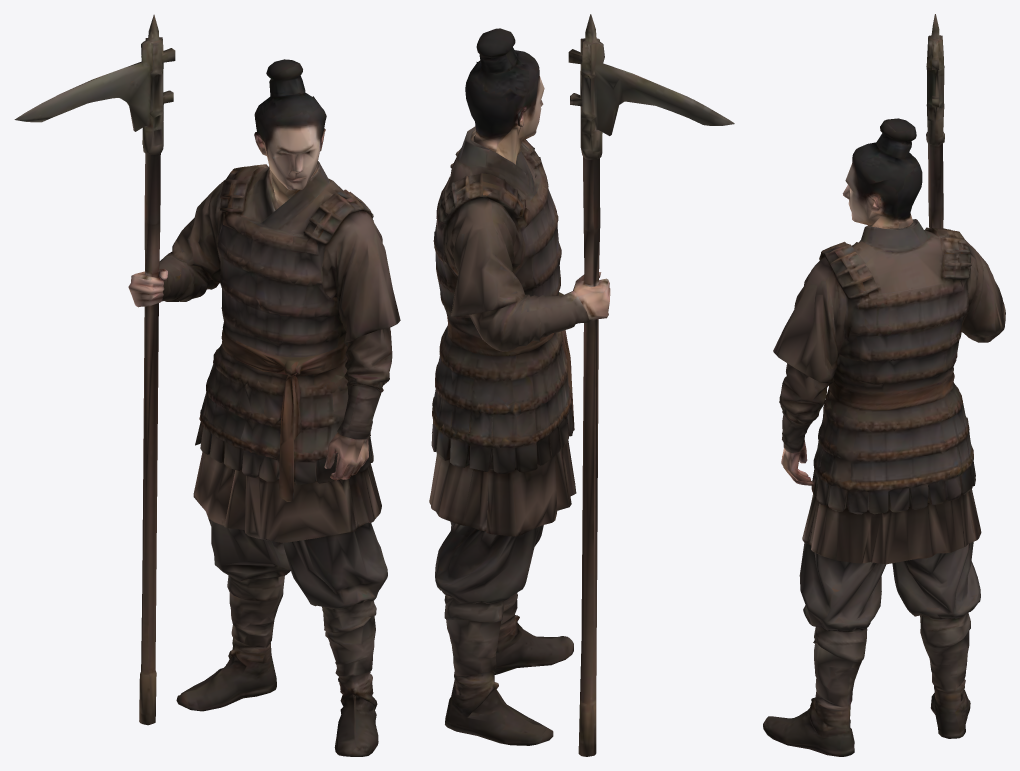
File: guard_lod1.glb
3 views of the same model, side by side, from view 1: azimuth 30°, elevation 25°; view 2: azimuth 150°, elevation 25°; view 3: azimuth 270°, elevation 25° (orthographic). The views are drawn at different scales.
Visible parts, largest first — view 1: node_0; view 2: node_0; view 3: node_0.
Boxes of the visible parts, left/top/right/bottom form: node_0: left=14, top=14, right=400, bottom=756; node_0: left=429, top=14, right=734, bottom=756; node_0: left=763, top=14, right=1005, bottom=756.
Bounding box in the file's own units: 0.5117 × 1.1 × 0.3613.
Materials: 1 (1 with a texture image).
